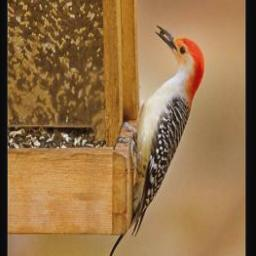Woodpecker: (107, 24, 205, 256)
